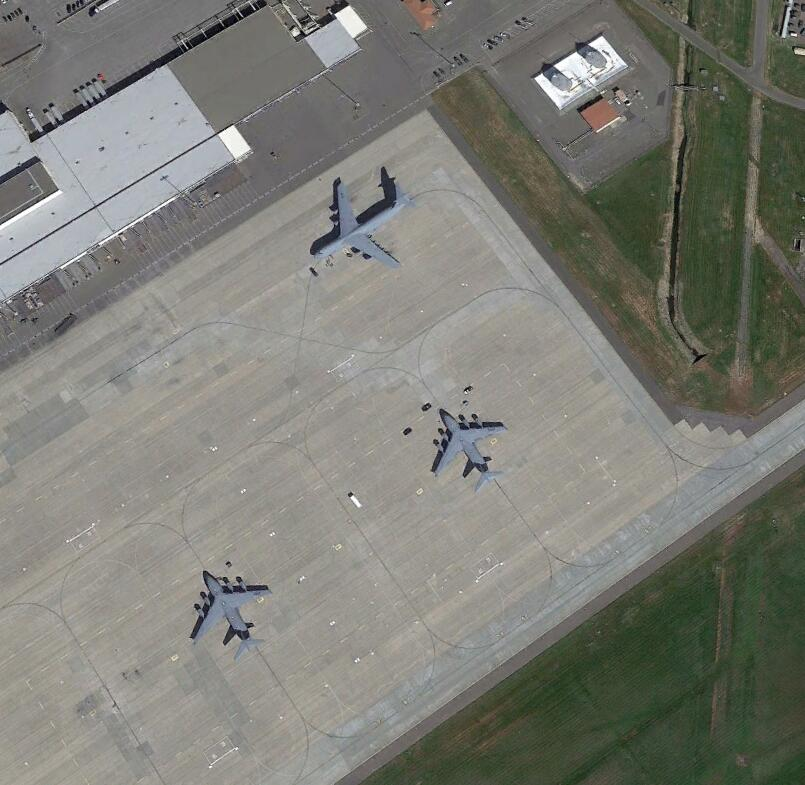A3: (189, 570, 275, 659), (431, 408, 509, 490)
A4: (310, 181, 415, 271)
